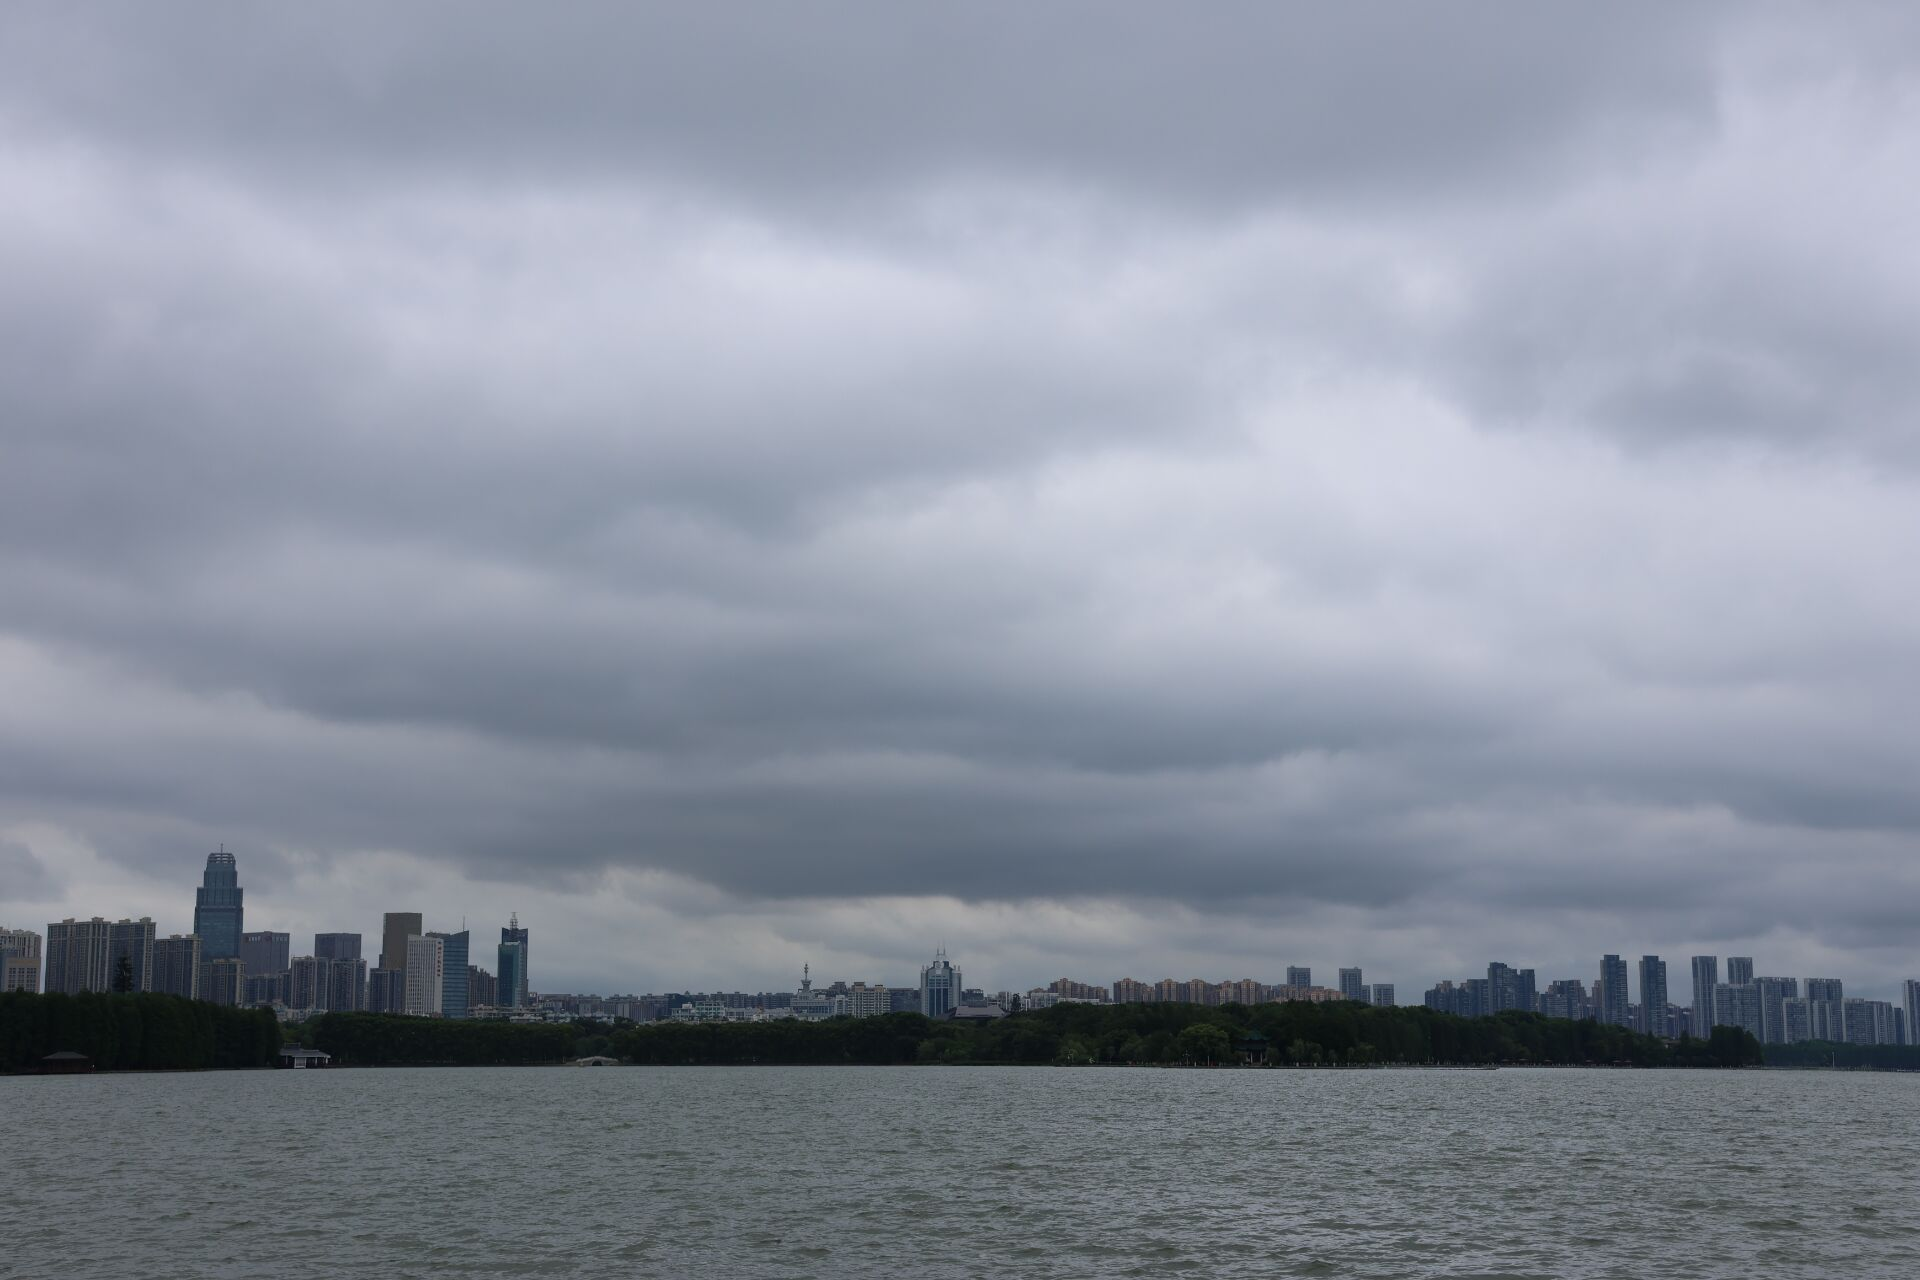Stratus: (29, 17, 1911, 761), (104, 681, 1891, 930)
